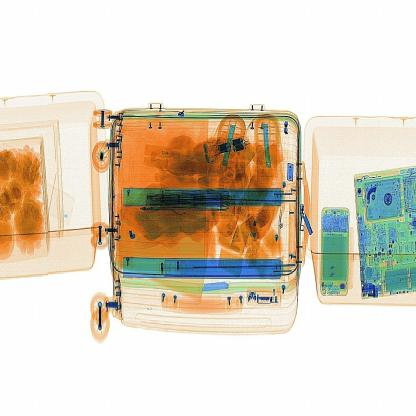pliers: (198, 270, 238, 306)
